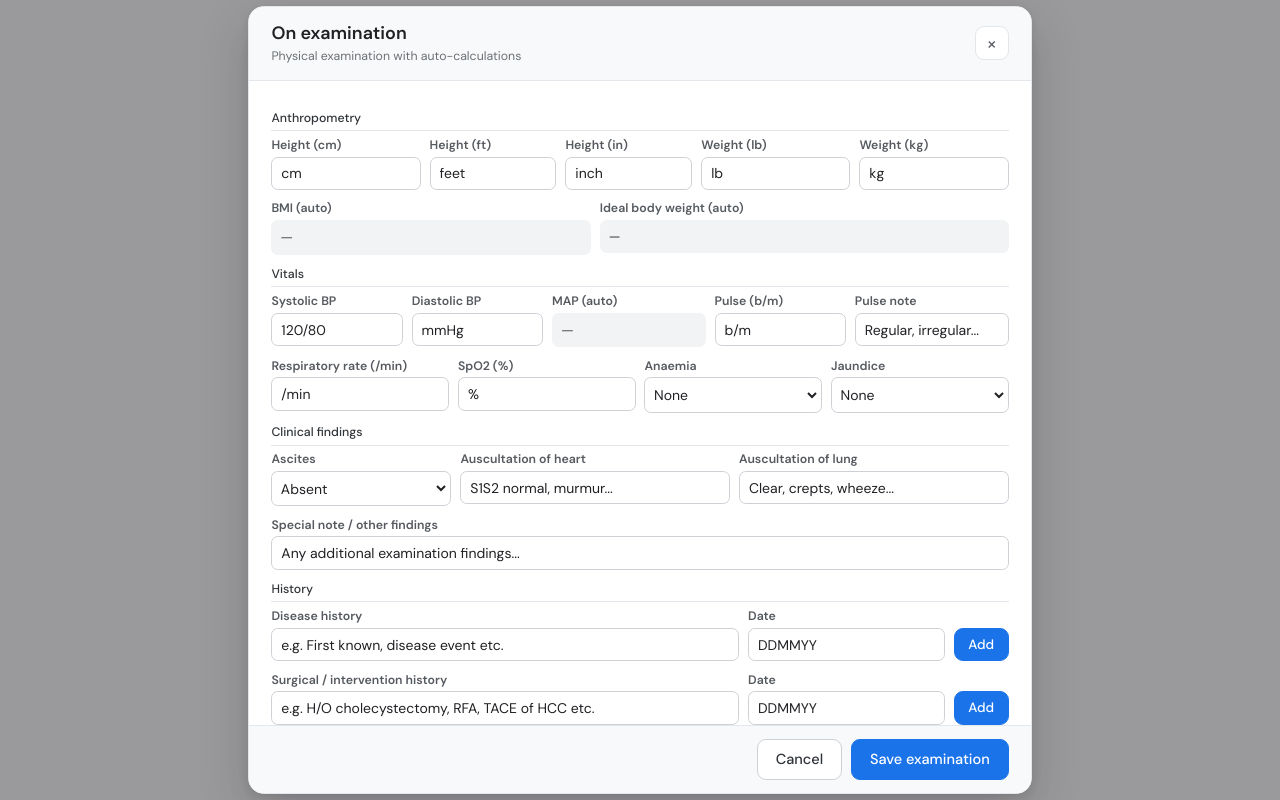
Test: On examination — dated history entries › Enter in the text box adds too
Type "Known HTN" into the field named "Disease history" at (505, 645), box [271,628,739,661]
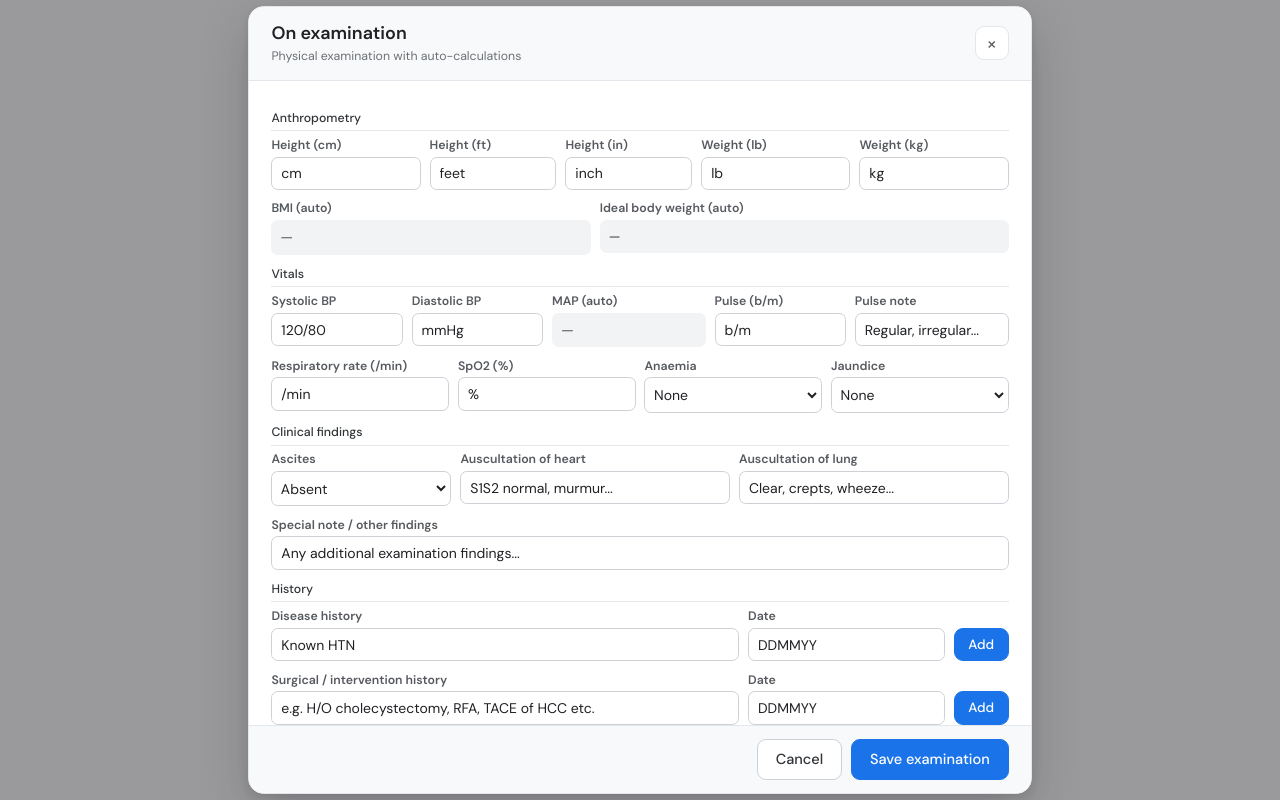
Press Enter in the field named "Disease history", box [271,628,739,661]
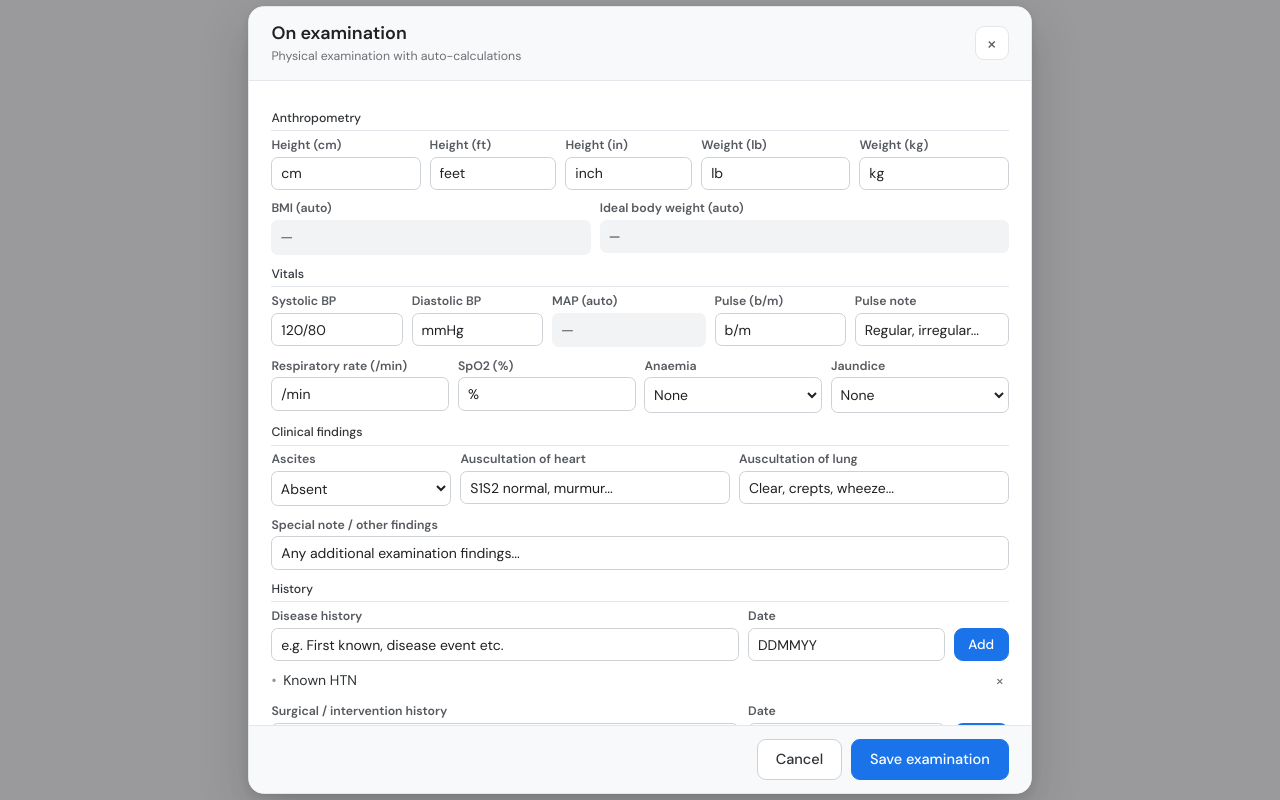
expect the text "Known HTN" is shown: met, box [283,671,357,689]
